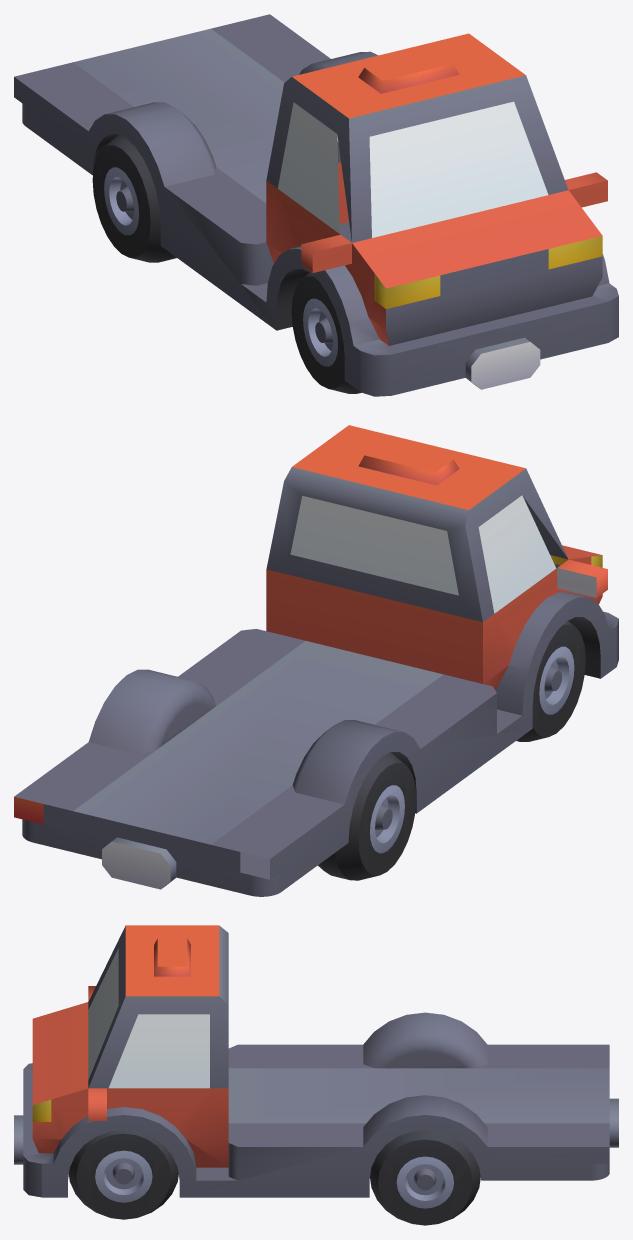
File: delivery-flat.glb
3 renders of one model, top to bottom at view 1: azimuth 30°, elevation 25°; view 2: azimuth 150°, elevation 25°; view 3: azimuth 270°, elevation 25°, orthographic. The views are drawn at different scales.
Parts seen in each view (by area): view 1: wheel-back-left; view 2: wheel-back-left; view 3: wheel-back-left.
Part boxes in pixels (left/top/right/bottom): wheel-back-left: left=14, top=14, right=618, bottom=396; wheel-back-left: left=14, top=425, right=618, bottom=896; wheel-back-left: left=14, top=925, right=618, bottom=1225.
Bounding box in the file's own units: 1.5 × 1.35 × 3.25.
Materials: 1 (1 with a texture image).
